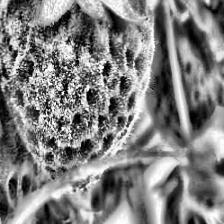Powdery Mildew Fruit: (0, 0, 157, 195), (0, 17, 40, 224)
